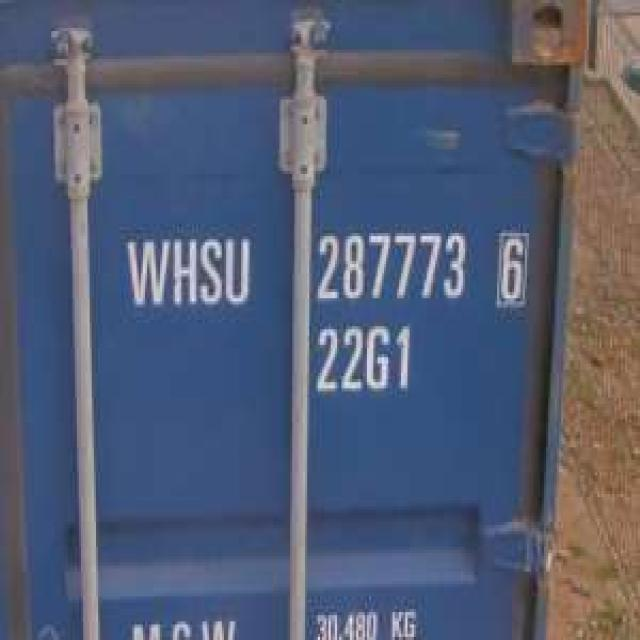dv: (490, 226, 532, 312)
owner: (117, 229, 259, 318)
serial: (314, 222, 470, 310)
size: (312, 319, 416, 402)
